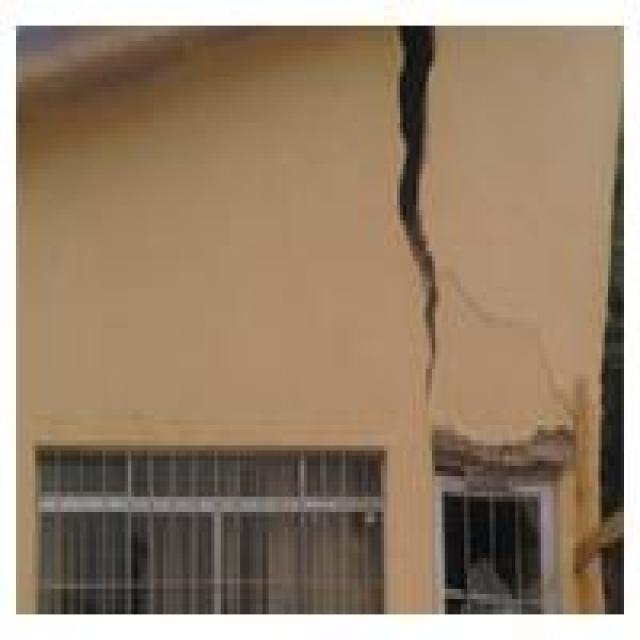crack: (393, 20, 437, 397), (431, 425, 579, 481)
